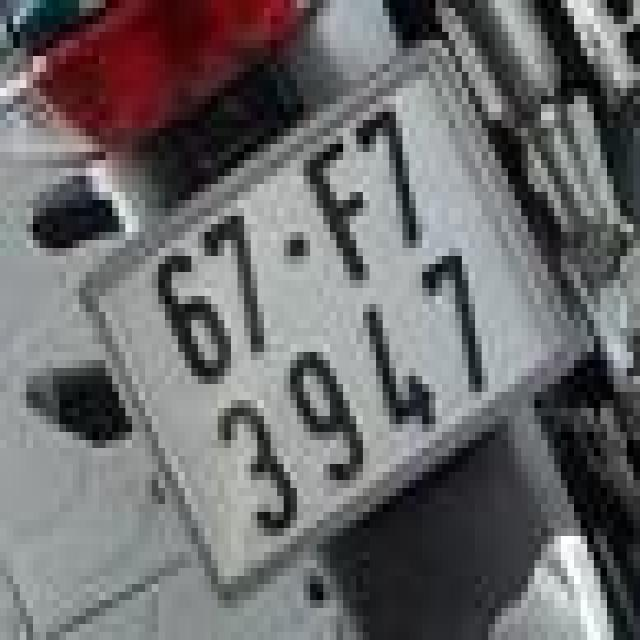3: (200, 375, 318, 551)
4: (341, 278, 461, 462)
6: (141, 233, 248, 402)
7: (405, 233, 519, 409), (342, 93, 447, 264), (194, 198, 291, 371)
9: (273, 333, 384, 498)
F: (291, 127, 401, 305)
